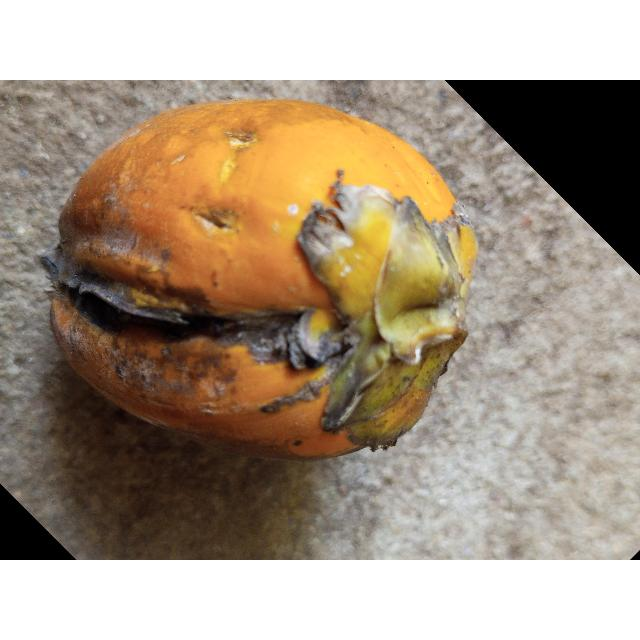damaged: (44, 100, 479, 463)
